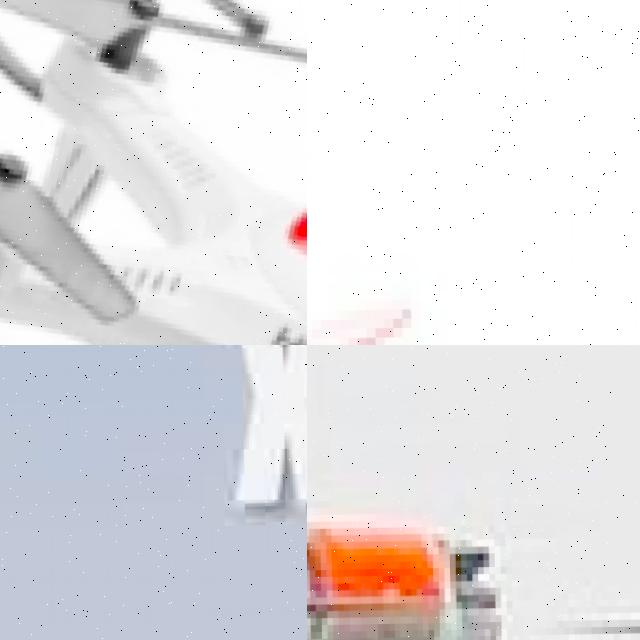drone: (0, 0, 307, 345)
